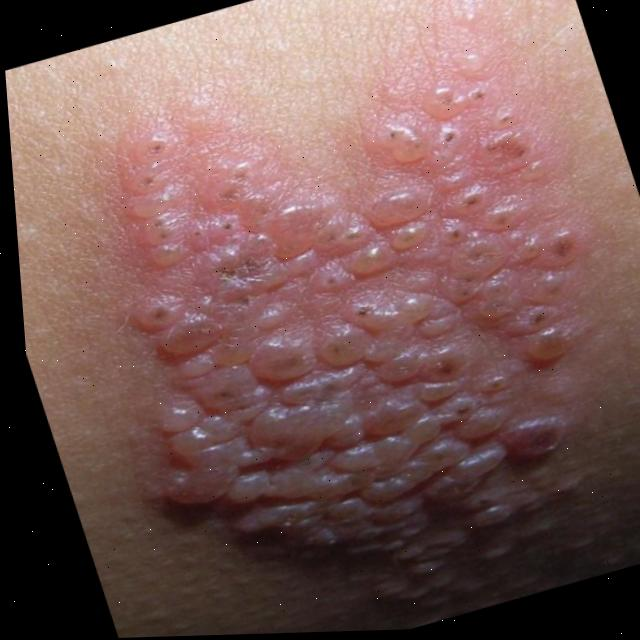Shingles: (48, 0, 640, 639)
